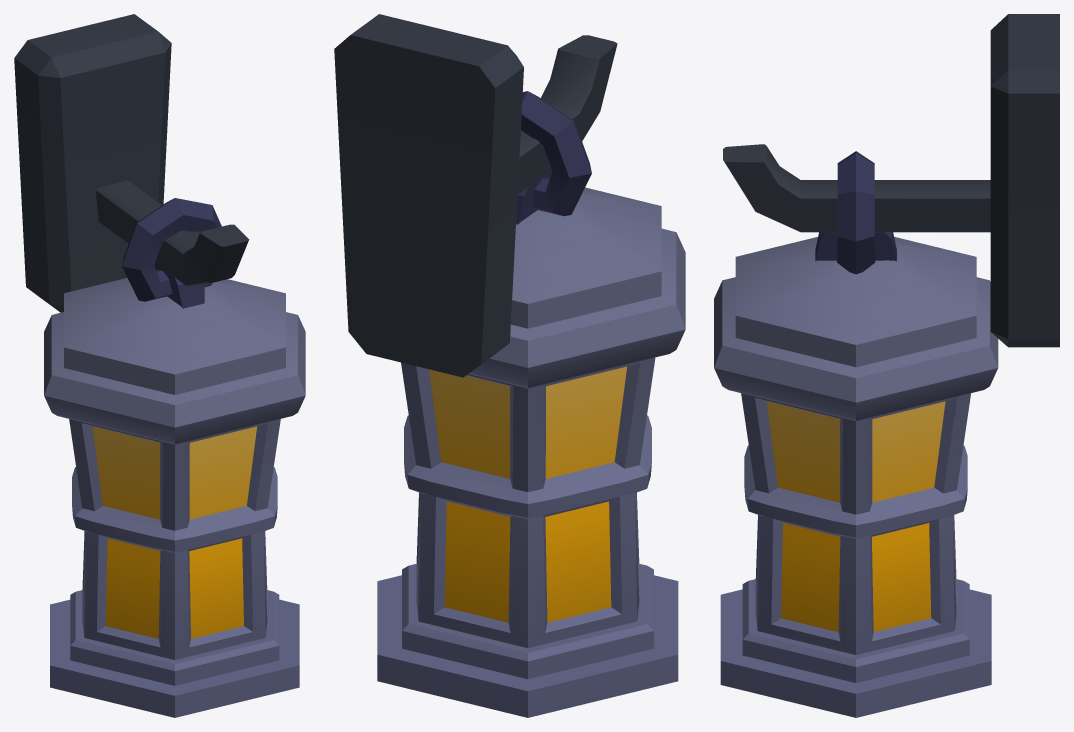
File: Wall_Lamp_01.glb
3 views of the same model, side by side, from view 1: azimuth 30°, elevation 25°; view 2: azimuth 150°, elevation 25°; view 3: azimuth 270°, elevation 25° (orthographic). The views are drawn at different scales.
Visible parts, largest first — view 1: Wall_Lamp_01; view 2: Wall_Lamp_01; view 3: Wall_Lamp_01.
Boxes of the visible parts, x1=… form: Wall_Lamp_01: x1=14, y1=14, x2=305, y2=717; Wall_Lamp_01: x1=334, y1=14, x2=685, y2=717; Wall_Lamp_01: x1=714, y1=14, x2=1059, y2=717.
Bounding box in the file's own units: 0.3831 × 0.785 × 0.4038.
Materials: 1 (1 with a texture image).
